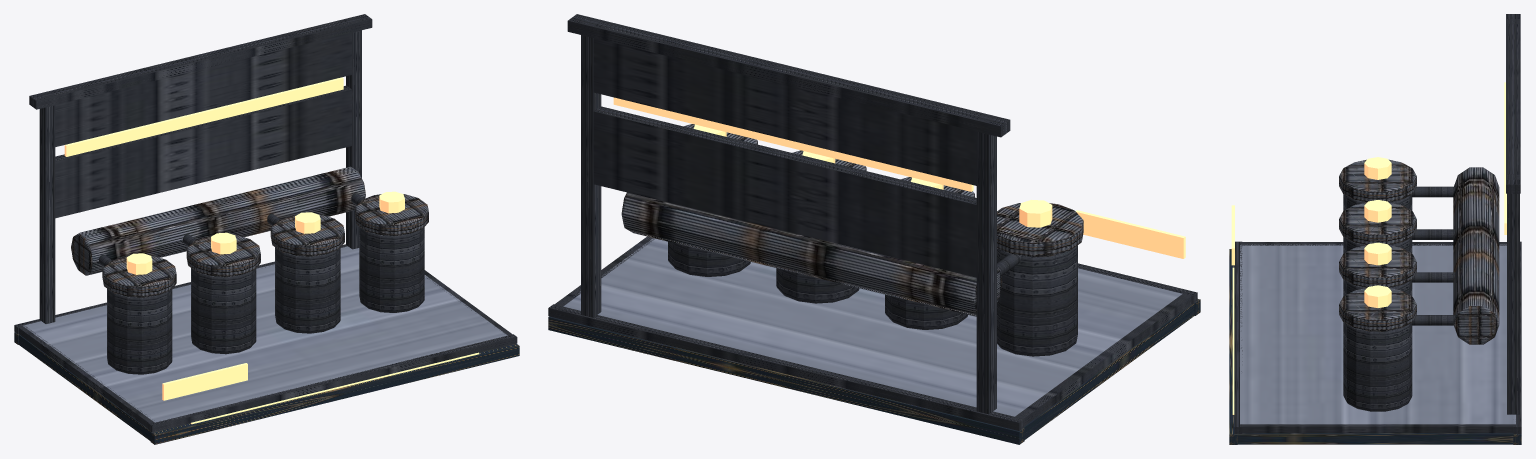
The model's file is engine_cylinder.glb.
3 renders of one model, left to right at view 1: azimuth 30°, elevation 25°; view 2: azimuth 150°, elevation 25°; view 3: azimuth 270°, elevation 25°, orthographic. The views are drawn at different scales.
Visible parts, largest first — view 1: sight_shell, base, manifold, cyl2, cyl0, cyl1, cyl3, shelltoe0, shellrim0, sightglow, head2, head0 (+11 smaller); view 2: sight_shell, base, manifold, cyl0, shelltoe2, shellrim2, head0, shellrims0, sightglow, shelltoes0, plate, cyl2 (+5 smaller); view 3: base, manifold, cyl3, sight_shell, shelltoes2, shellrims2, head3, head1, head0, head2, shellrim0, shelltoe0 (+15 smaller).
Boxes of the visible parts, box(x1,y1,x2,y2) form: sight_shell: box(29, 14, 372, 323); base: box(23, 246, 507, 422); manifold: box(71, 166, 365, 275); cyl2: box(275, 247, 340, 333); cyl0: box(107, 288, 172, 374); cyl1: box(191, 268, 256, 354); cyl3: box(359, 227, 424, 312); shelltoe0: box(150, 343, 519, 444); shellrim0: box(148, 334, 517, 432); sightglow: box(64, 77, 343, 156); head2: box(270, 214, 344, 256); head0: box(102, 255, 176, 297); sight_shell: box(567, 14, 1010, 414); base: box(563, 238, 1182, 416); manifold: box(621, 192, 1002, 316); cyl0: box(997, 245, 1077, 356); shelltoe2: box(548, 316, 1024, 444); shellrim2: box(548, 304, 1024, 430); head0: box(997, 203, 1083, 257); shellrims0: box(1015, 292, 1191, 425); sightglow: box(613, 97, 973, 191); shelltoes0: box(1024, 303, 1194, 439); plate: box(1075, 210, 1185, 258); cyl2: box(776, 268, 859, 303); base: box(1240, 244, 1515, 424); manifold: box(1453, 167, 1499, 344); cyl3: box(1343, 322, 1412, 411); sight_shell: box(1506, 14, 1520, 414); shelltoes2: box(1235, 433, 1515, 444); shellrims2: box(1240, 424, 1515, 433); head3: box(1339, 288, 1416, 331); head1: box(1339, 202, 1416, 245); head0: box(1339, 159, 1416, 202); head2: box(1339, 245, 1416, 287); shellrim0: box(1234, 241, 1242, 433); shelltoe0: box(1229, 249, 1237, 444).
Bounding box in the file's own units: 2.67 × 1.7 × 1.78.
7 materials, 5 textured.
